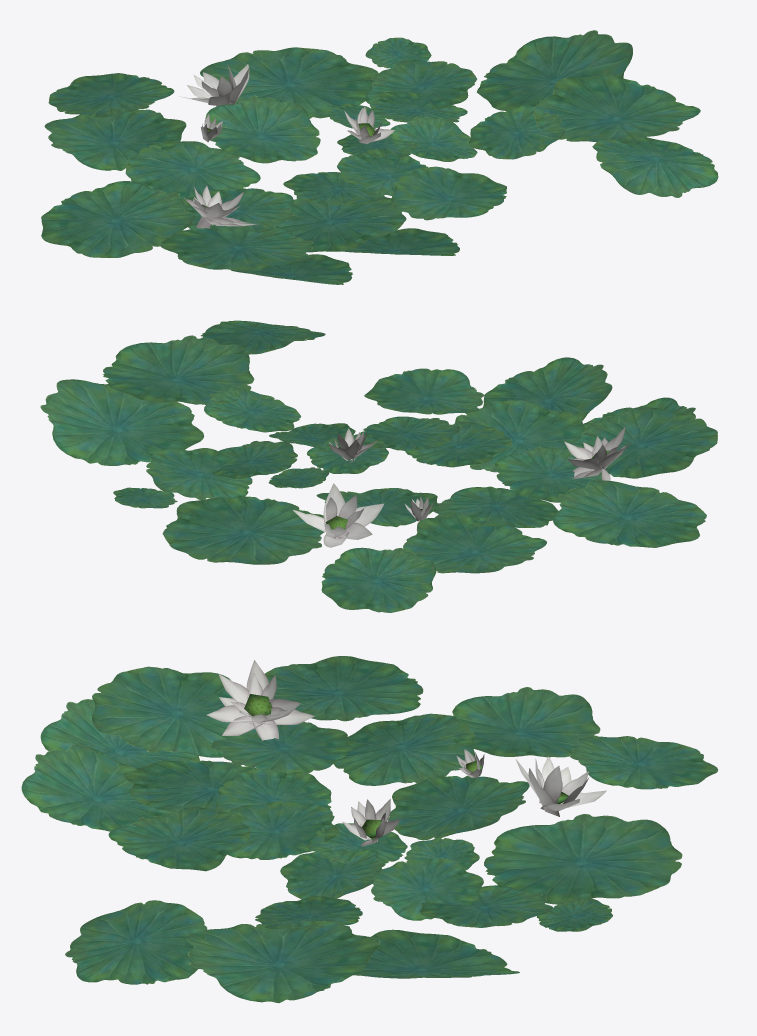
Rendered from hehua_yunmeng_01.FBX.
3 views of the same model, one above another, from view 1: azimuth 30°, elevation 25°; view 2: azimuth 150°, elevation 25°; view 3: azimuth 270°, elevation 25° (orthographic). The views are drawn at different scales.
Parts seen in each view (by area): view 1: Mesh_0068; view 2: Mesh_0068; view 3: Mesh_0068.
Part boxes in pixels (x1=…): Mesh_0068: x1=41, y1=30, x2=718, y2=284; Mesh_0068: x1=40, y1=320, x2=717, y2=612; Mesh_0068: x1=21, y1=656, x2=718, y2=1003.
Bounding box in the file's own units: 667 × 65.95 × 533.
